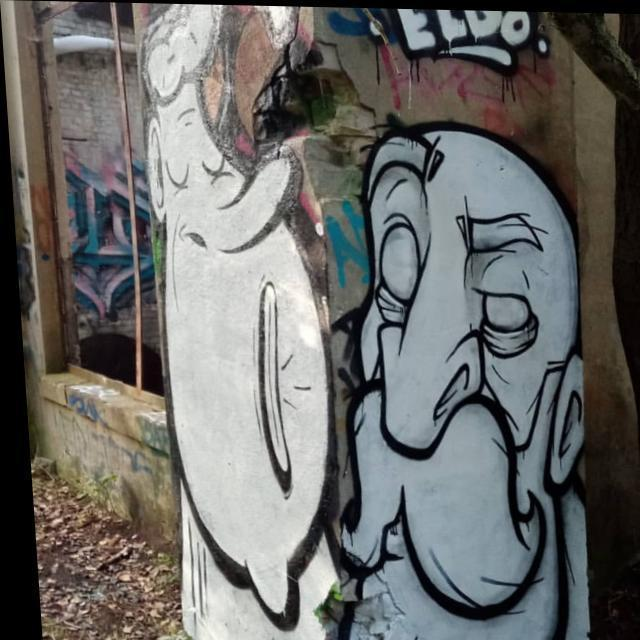nonspitting: (348, 124, 588, 640), (146, 0, 340, 637), (400, 0, 551, 70)
